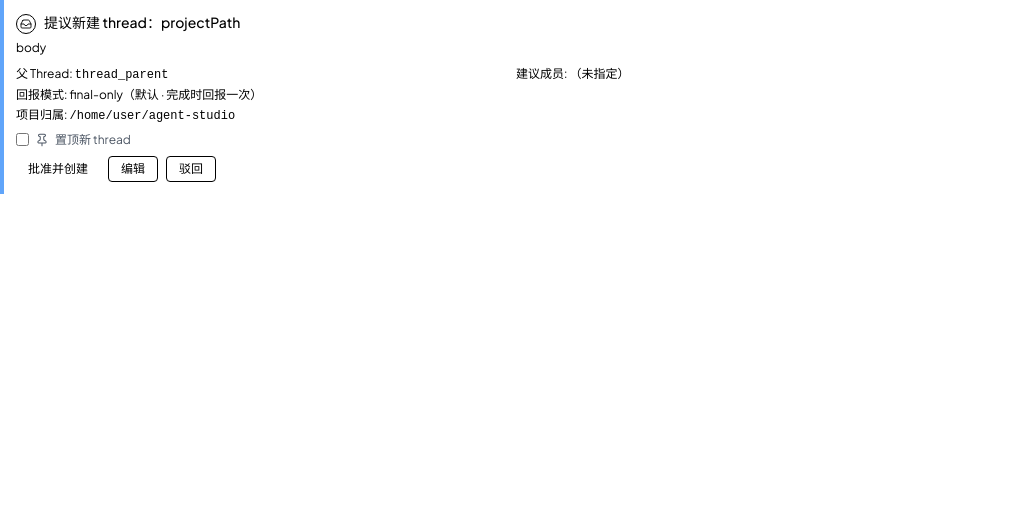
Test: ProposalCard — projectPath ownership › edit + approve lets the user override reportingMode to autonomous
Step 1. Click the button "编辑" → (133, 168), box [108,156,158,182]
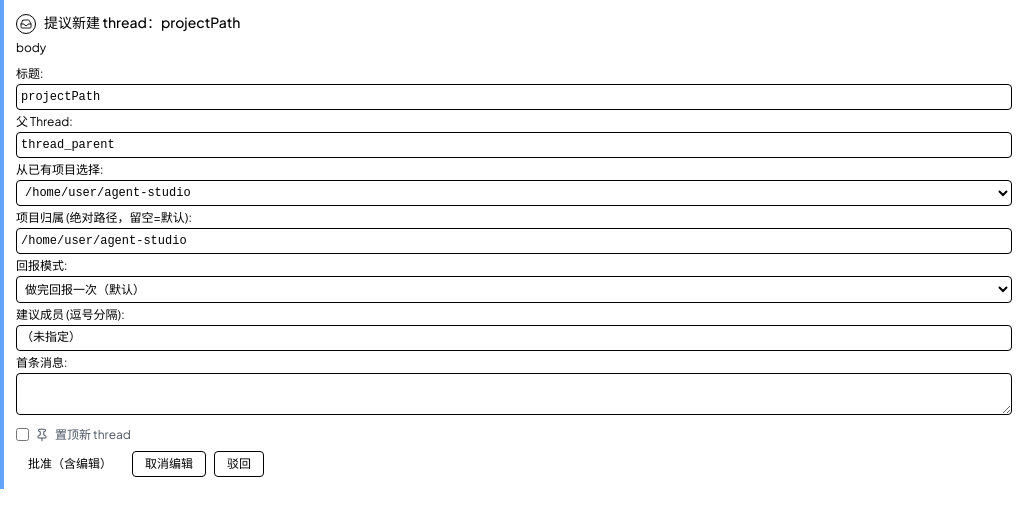
Now the dropdown labelled "回报模式:" shows "做完回报一次（默认）"
Step 2. Select "下游自治，不强制回报" in the dropdown labelled "回报模式:" → (514, 289), box [16,276,1012,302]
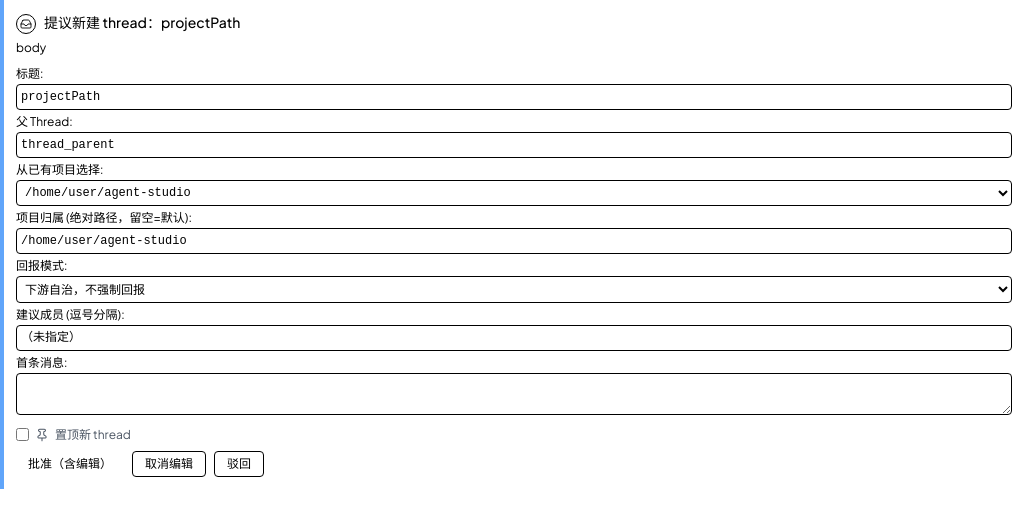
Step 3. Click the button "批准（含编辑）" → (70, 464), box [16,450,124,476]
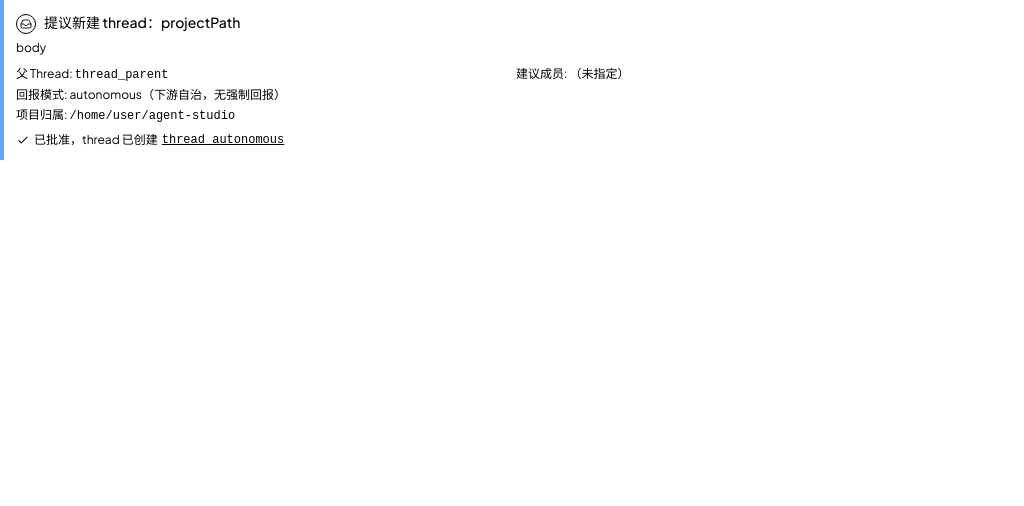
Expected: the text "final-only（默认 · 完成时回报一次）" is not shown
Now the text "autonomous（下游自治，无强制回报）" is shown, box [70,86,286,102]
